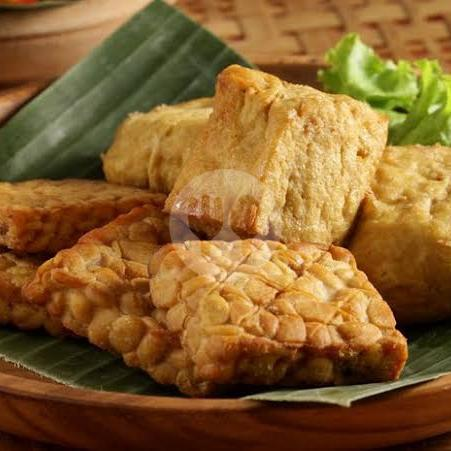Tempe: (144, 242, 375, 391), (49, 237, 182, 357), (1, 167, 123, 241)
